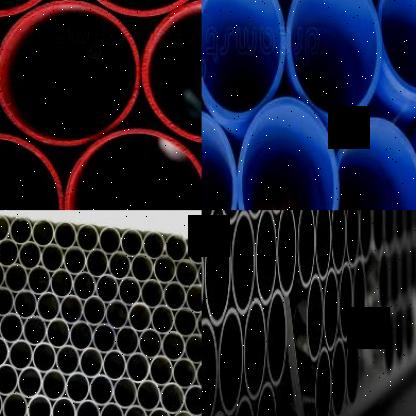pipe: (0, 0, 140, 146), (287, 0, 382, 123), (238, 97, 340, 210), (63, 129, 202, 210), (202, 0, 286, 119), (143, 0, 201, 144), (333, 116, 416, 210), (0, 132, 65, 210), (378, 0, 416, 96), (201, 109, 235, 210), (204, 215, 232, 326), (219, 308, 244, 416), (232, 211, 255, 316), (70, 0, 202, 17), (244, 298, 266, 400), (266, 289, 288, 387), (256, 210, 277, 306), (278, 210, 297, 297), (306, 274, 324, 362), (202, 318, 218, 416), (298, 210, 315, 289), (324, 267, 339, 351), (331, 338, 346, 416), (315, 210, 331, 281), (340, 262, 354, 342), (315, 346, 331, 416), (347, 330, 360, 406), (331, 210, 346, 273), (354, 258, 366, 332), (136, 379, 162, 412), (65, 372, 91, 404), (8, 340, 34, 372), (42, 368, 66, 402), (346, 210, 360, 268), (17, 367, 43, 398), (160, 382, 185, 414), (172, 358, 197, 390), (138, 328, 163, 360), (32, 342, 57, 374), (149, 356, 174, 387), (82, 296, 107, 327), (102, 350, 127, 381), (27, 265, 52, 296), (126, 352, 150, 384), (56, 344, 80, 376), (50, 268, 74, 300), (141, 278, 165, 310), (151, 304, 175, 336), (90, 375, 114, 406), (23, 315, 47, 346), (128, 302, 152, 333), (37, 292, 61, 323), (14, 289, 38, 320), (118, 276, 142, 307), (162, 330, 185, 362), (47, 318, 70, 350), (60, 294, 83, 326), (70, 320, 93, 352), (113, 378, 137, 408), (163, 281, 187, 311), (130, 253, 154, 283), (256, 382, 277, 416), (174, 307, 197, 338), (93, 323, 116, 354), (0, 313, 23, 344), (95, 274, 119, 303), (54, 221, 78, 250), (41, 244, 65, 273), (80, 348, 103, 378), (116, 326, 139, 356), (106, 300, 129, 330), (86, 248, 109, 278), (73, 272, 97, 300), (153, 256, 177, 284), (18, 242, 42, 270), (64, 246, 87, 275), (5, 264, 28, 293), (143, 231, 166, 260), (32, 219, 55, 248), (109, 251, 131, 281), (176, 259, 198, 288), (121, 229, 143, 258), (2, 391, 27, 416), (77, 224, 99, 252), (99, 227, 121, 255), (165, 234, 187, 262), (10, 217, 32, 245), (0, 364, 19, 396), (359, 210, 371, 258), (184, 385, 202, 416), (184, 333, 202, 364), (0, 239, 19, 267), (27, 395, 52, 416), (186, 283, 202, 313), (51, 397, 76, 416), (231, 397, 255, 416), (186, 236, 202, 264), (0, 287, 15, 316), (75, 399, 100, 416), (100, 402, 124, 416), (0, 336, 10, 368), (0, 214, 11, 243), (124, 405, 149, 416), (195, 360, 202, 392), (147, 407, 171, 416), (196, 310, 202, 339), (171, 410, 197, 416), (0, 261, 5, 289)
